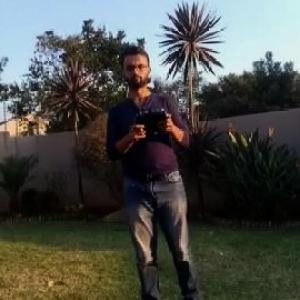follow: (106, 34, 211, 299)
